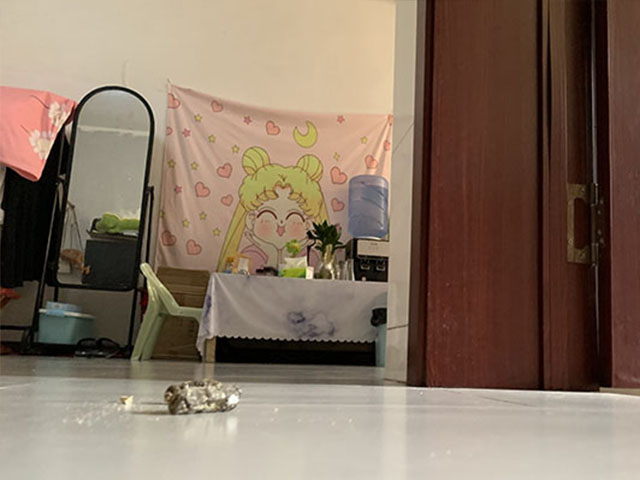feces: (162, 376, 243, 414)
stool: (129, 261, 205, 363)
table: (205, 270, 376, 364)
